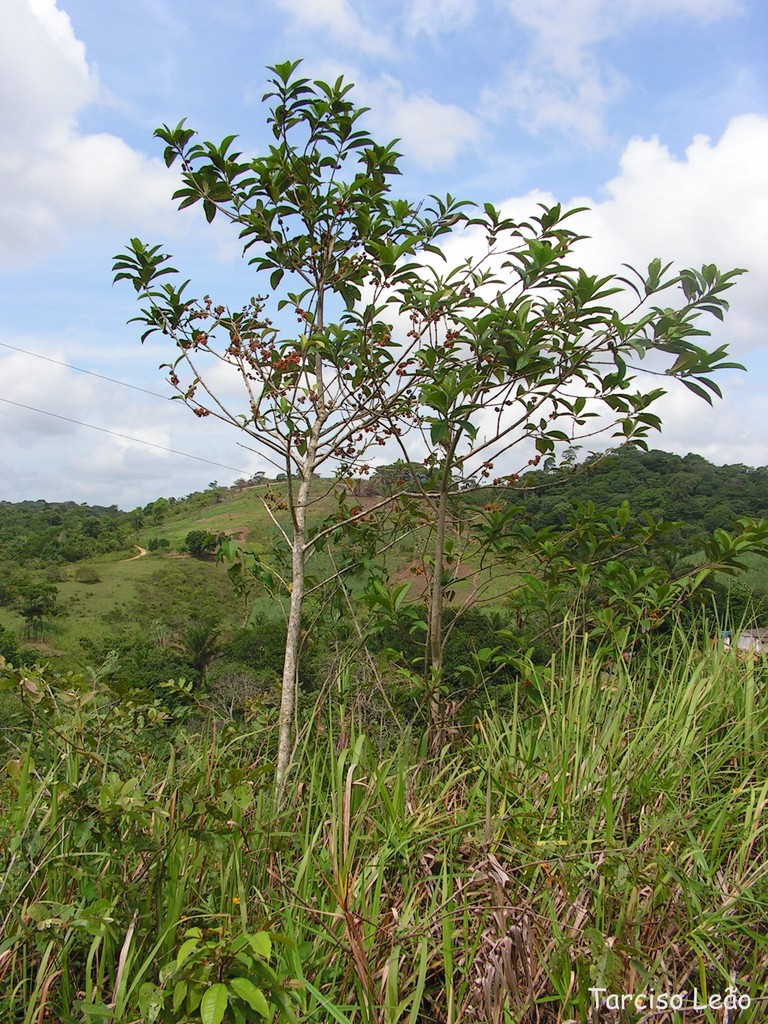Tree: (108, 53, 749, 829), (367, 430, 767, 592)
